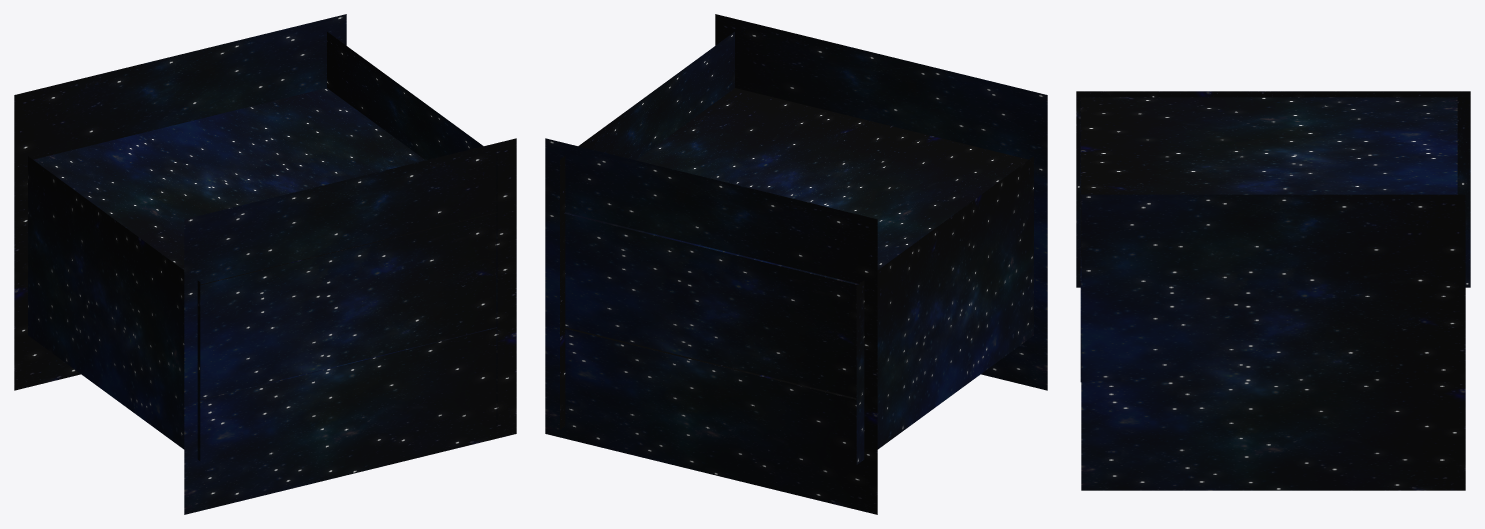
File: space overlay.fbx
3 renders of one model, left to right at view 1: azimuth 30°, elevation 25°; view 2: azimuth 150°, elevation 25°; view 3: azimuth 270°, elevation 25°, orthographic. The views are drawn at different scales.
Parts seen in each view (by area): view 1: pPlane5, pPlane2, pPlane7, pPlane4, pPlane3; view 2: pPlane4, pPlane2, pPlane7, pPlane5, pPlane3, pPlane1; view 3: pPlane3, pPlane2, pPlane7.
Boxes of the visible parts, bbox=[...] form: pPlane5: bbox=[184, 138, 516, 514]; pPlane2: bbox=[33, 88, 497, 285]; pPlane7: bbox=[28, 156, 200, 460]; pPlane4: bbox=[14, 14, 346, 390]; pPlane3: bbox=[327, 32, 497, 426]; pPlane4: bbox=[545, 138, 877, 514]; pPlane2: bbox=[564, 88, 1028, 284]; pPlane7: bbox=[856, 156, 1033, 464]; pPlane5: bbox=[715, 14, 1047, 390]; pPlane3: bbox=[560, 32, 734, 429]; pPlane1: bbox=[564, 327, 856, 399]; pPlane3: bbox=[1081, 194, 1465, 490]; pPlane2: bbox=[1080, 97, 1457, 256]; pPlane7: bbox=[1076, 91, 1470, 287].
Bounding box in the file's own units: 75.05 × 63.78 × 70.46.
